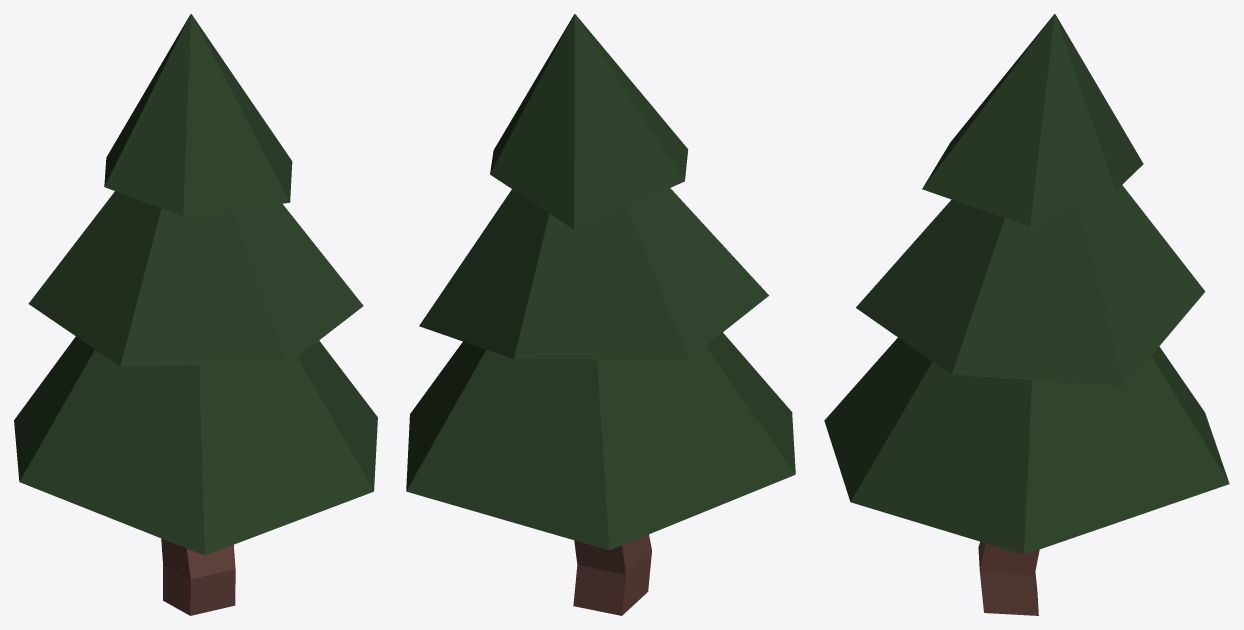
File: tree.obj
3 renders of one model, left to right at view 1: azimuth 30°, elevation 25°; view 2: azimuth 150°, elevation 25°; view 3: azimuth 270°, elevation 25°, orthographic. The views are drawn at different scales.
Visible parts, largest first — view 1: tree.obj; view 2: tree.obj; view 3: tree.obj.
Boxes of the visible parts, <box> form: tree.obj: <box>14,14,377,615</box>; tree.obj: <box>406,14,795,615</box>; tree.obj: <box>824,14,1229,615</box>.
Bounding box in the file's own units: 3.58 × 5.4 × 3.32.
